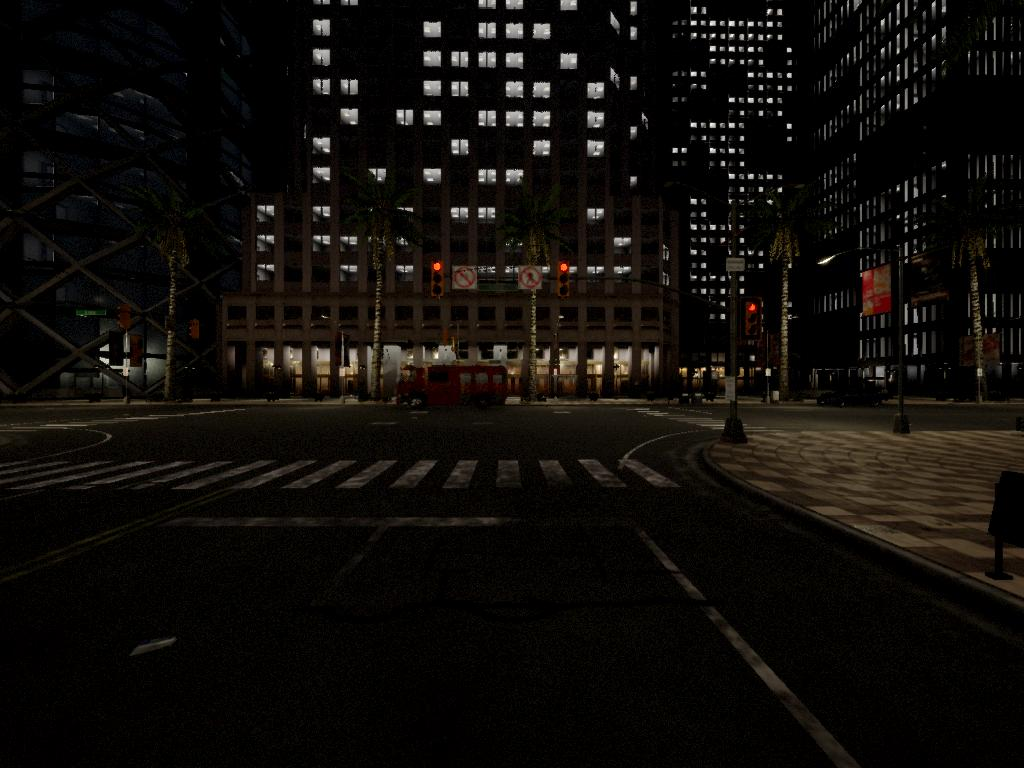traffic_light: (744, 303, 760, 341), (431, 264, 446, 298), (557, 266, 572, 299)
